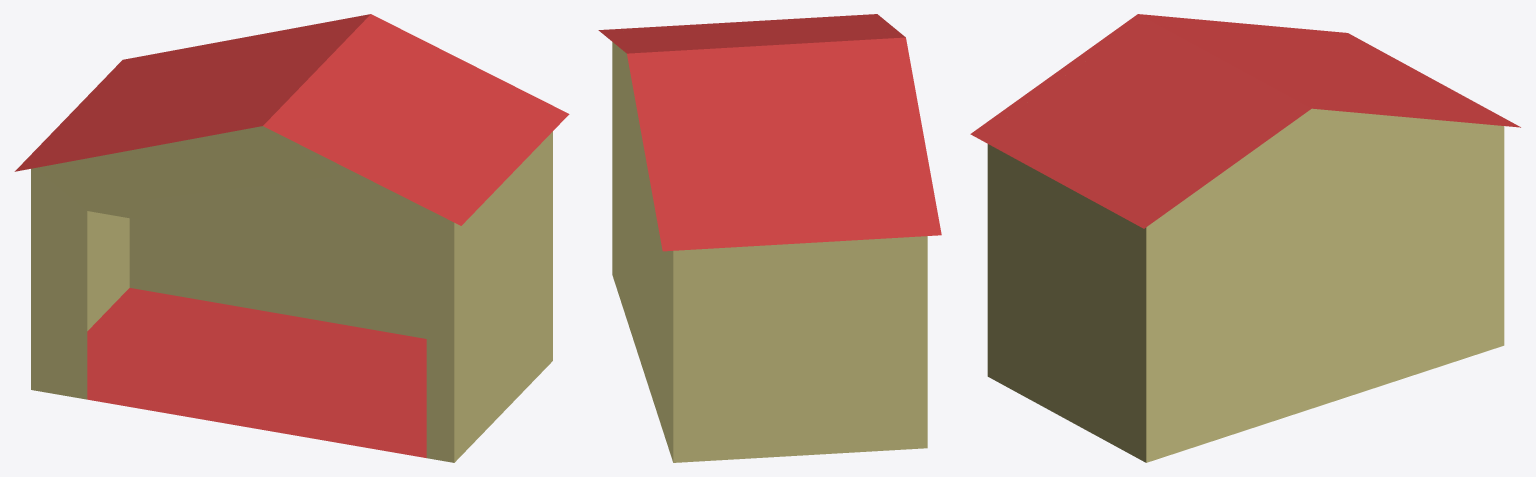
The picture shows the model from 3 angles, left to right: view 1: azimuth 30°, elevation 25°; view 2: azimuth 150°, elevation 25°; view 3: azimuth 270°, elevation 25°; orthographic projection.
Size of the model in its own units: 20.66 by 22.03 by 13.52.
